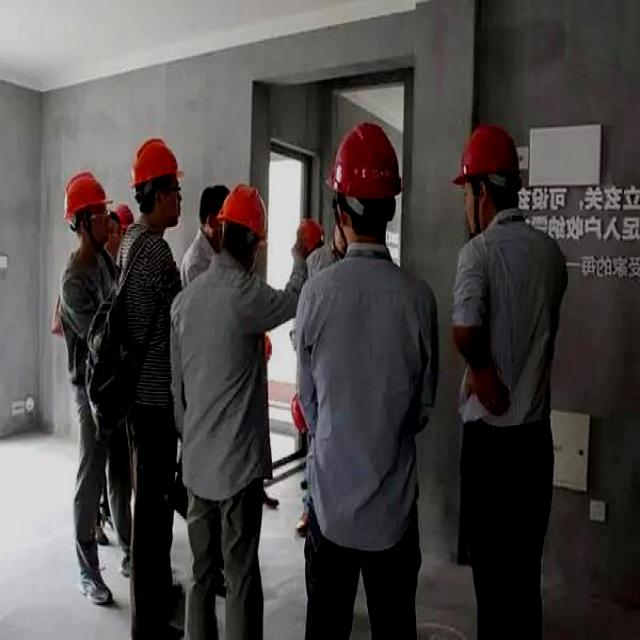hand_noglove: (462, 360, 507, 421)
head_helmet: (322, 126, 400, 200), (441, 124, 526, 189), (129, 134, 186, 188), (220, 182, 266, 232), (63, 172, 110, 210), (294, 218, 324, 250), (113, 204, 136, 230)
head_nohelmet: (200, 172, 228, 212)
person: (303, 124, 429, 640), (454, 121, 549, 640), (173, 192, 278, 640), (110, 142, 179, 640), (54, 166, 120, 612), (180, 171, 227, 277)
